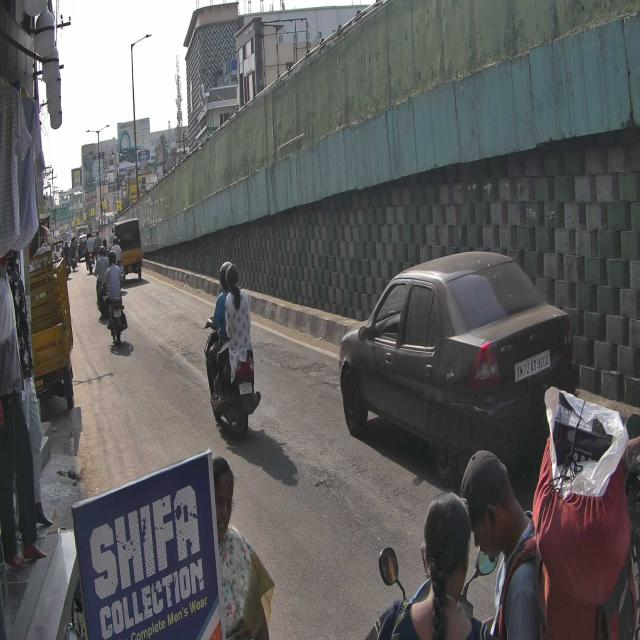double_rider: (202, 260, 261, 438)
